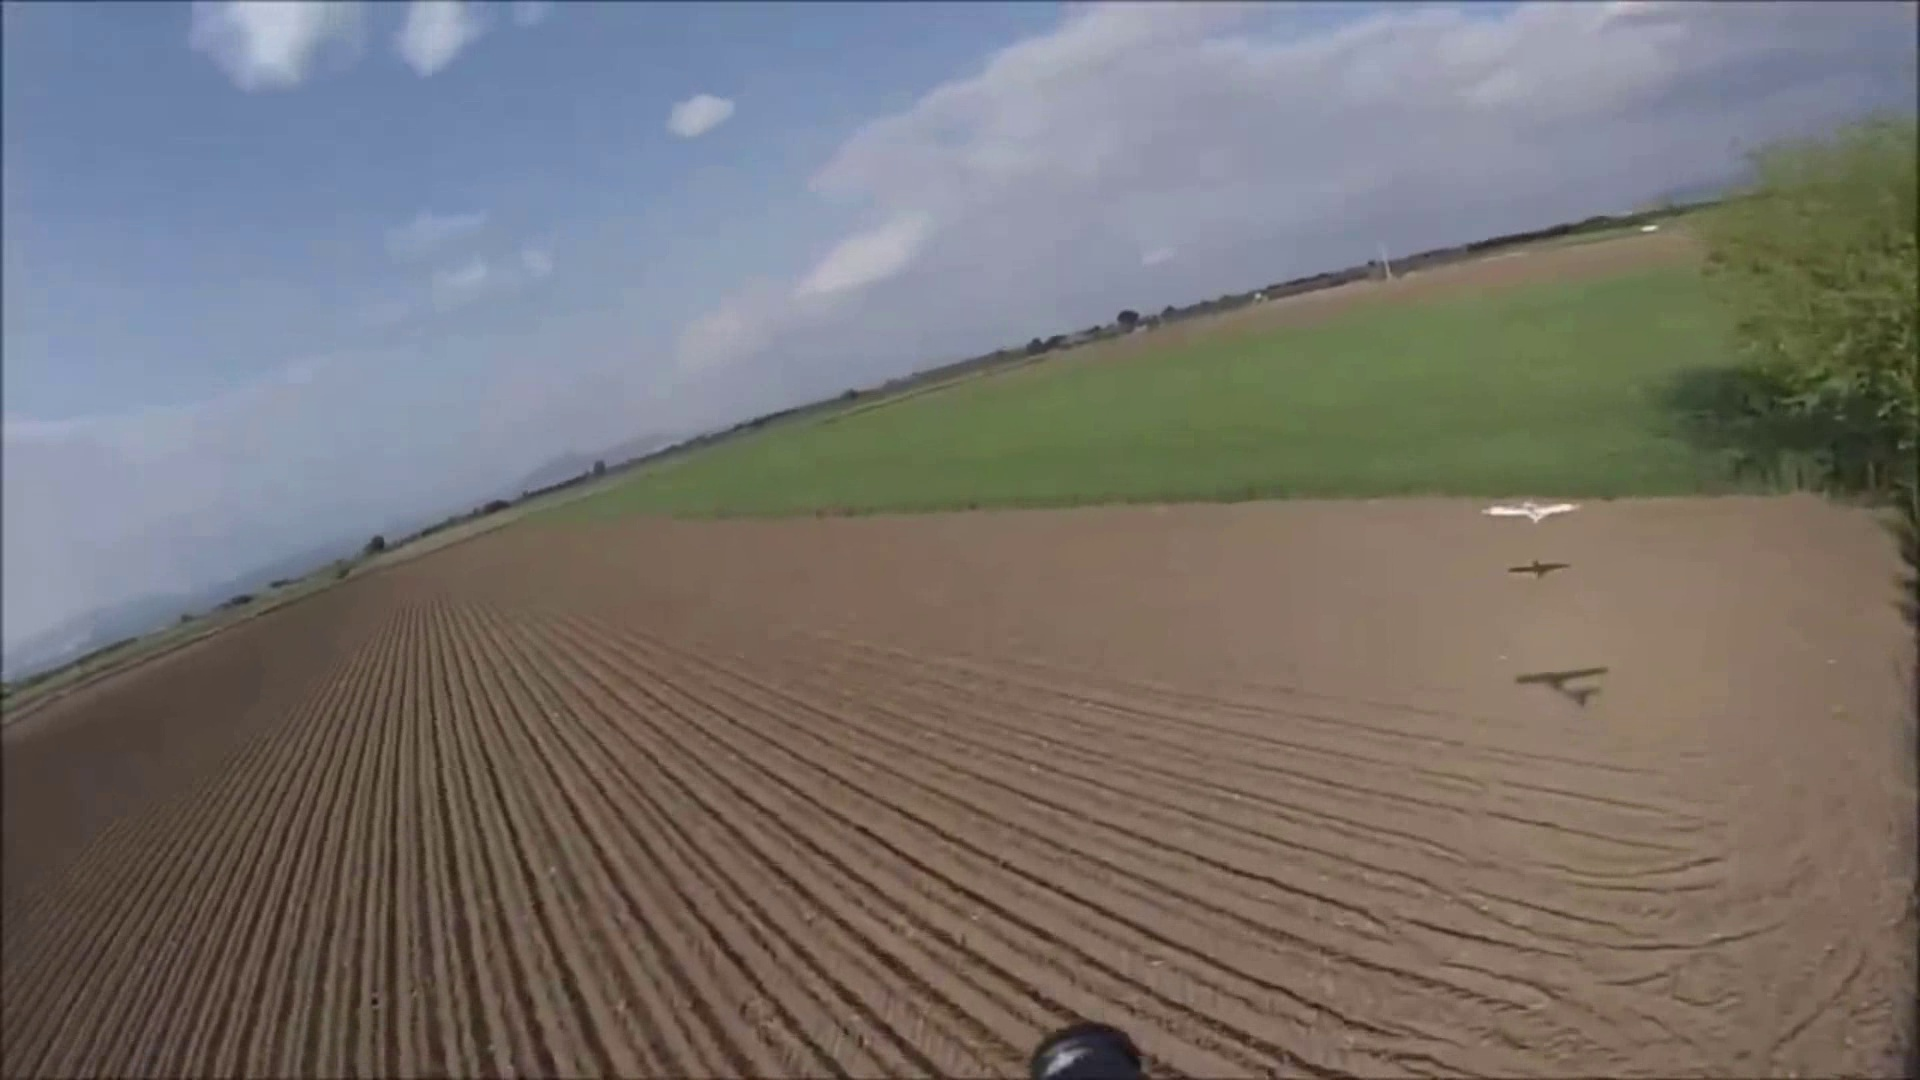airplane: (1504, 559, 1568, 579)
